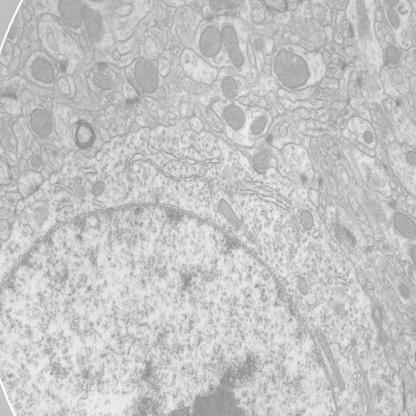mitochondria: (272, 48, 312, 90), (221, 24, 247, 70), (134, 57, 160, 94), (58, 0, 83, 32), (84, 4, 105, 42), (198, 25, 222, 58), (216, 198, 242, 228), (28, 107, 53, 138), (393, 211, 416, 240), (223, 103, 246, 132), (31, 57, 55, 84), (220, 75, 238, 100), (250, 113, 268, 138), (384, 44, 402, 68), (253, 148, 271, 171), (92, 72, 115, 89), (387, 7, 401, 30), (296, 275, 309, 298), (91, 180, 106, 197), (300, 211, 312, 231), (398, 282, 410, 301), (30, 153, 42, 170), (363, 128, 375, 144)
